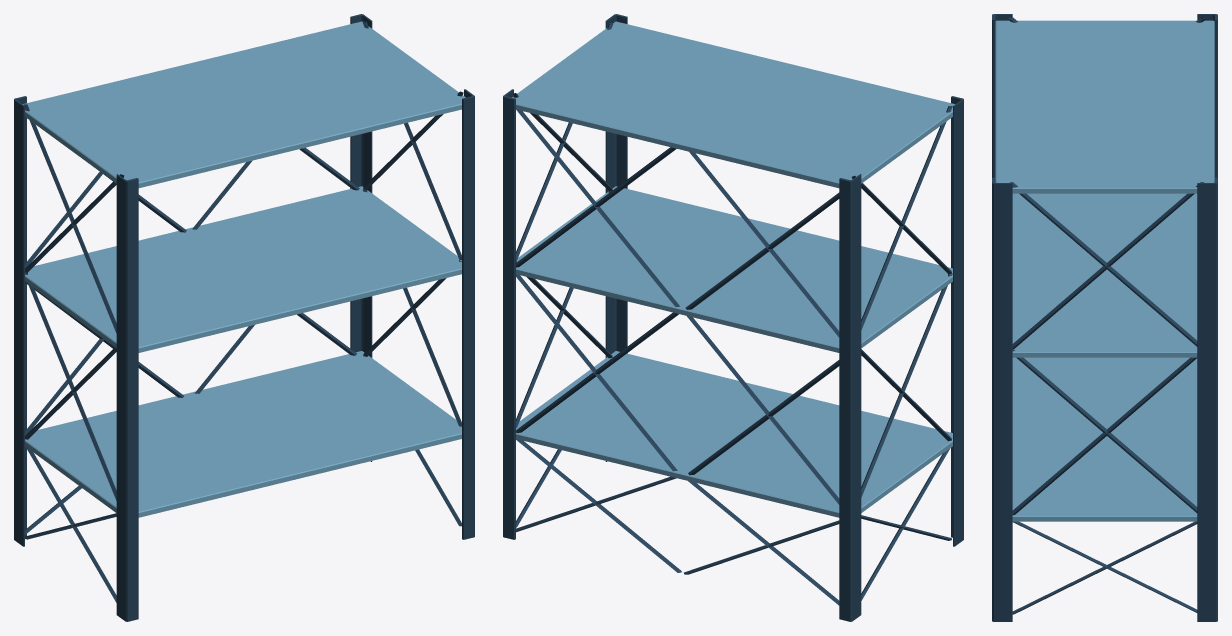
The model's file is Prop_Rack_Small.fbx.
3 views of the same model, side by side, from view 1: azimuth 30°, elevation 25°; view 2: azimuth 150°, elevation 25°; view 3: azimuth 270°, elevation 25° (orthographic).
Visible parts, largest first — view 1: Prop_Rack_Small; view 2: Prop_Rack_Small; view 3: Prop_Rack_Small.
Part boxes in pixels (left/top/right/bottom): Prop_Rack_Small: left=14, top=14, right=474, bottom=621; Prop_Rack_Small: left=503, top=14, right=963, bottom=621; Prop_Rack_Small: left=992, top=14, right=1217, bottom=621.
Size of the model in its own units: 144 by 256 by 308.
